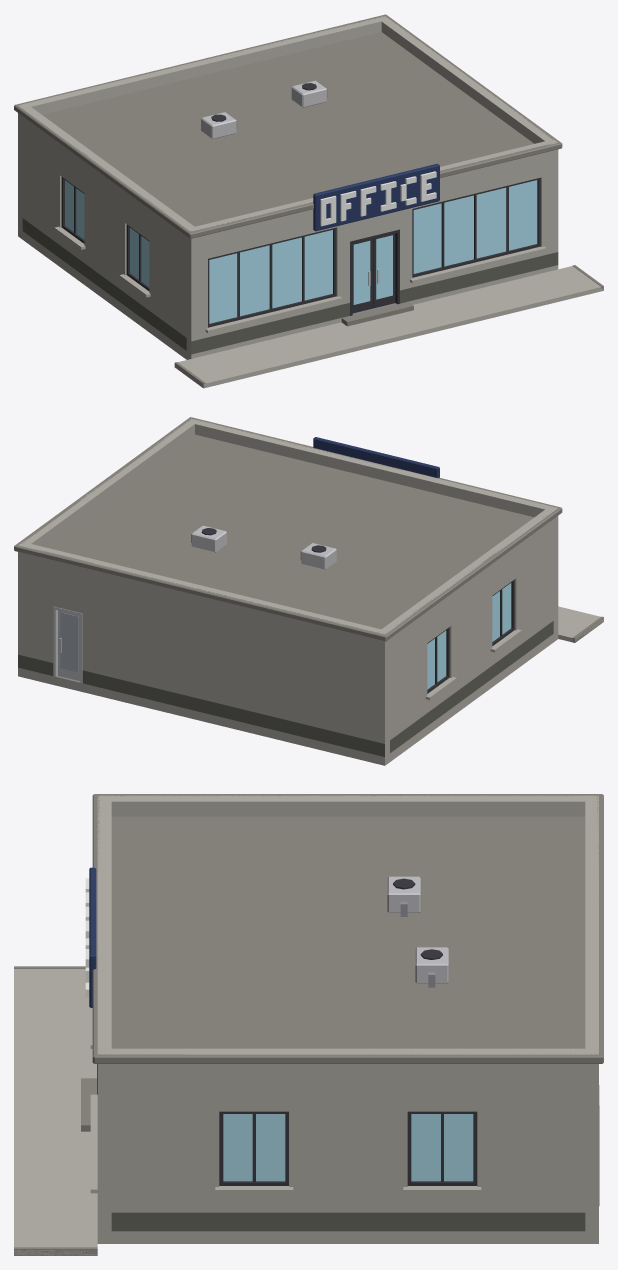
Rendered from Office.fbx.
3 views of the same model, one above another, from view 1: azimuth 30°, elevation 25°; view 2: azimuth 150°, elevation 25°; view 3: azimuth 270°, elevation 25° (orthographic). The views are drawn at different scales.
Visible parts, largest first — view 1: Office, Office_Roof, Office_Glass, Office_Sign, Office_DoorR, Office_DoorL; view 2: Office, Office_Roof, Office_Glass, Office_Sign, Office_BackDoor; view 3: Office, Office_Roof, Office_Glass, Office_Sign.
Boxes of the visible parts, <box> form: Office: <box>14,14,603,388</box>; Office_Roof: <box>42,32,533,226</box>; Office_Glass: <box>65,180,537,323</box>; Office_Sign: <box>313,163,439,231</box>; Office_DoorR: <box>373,233,395,308</box>; Office_DoorL: <box>352,239,372,313</box>; Office: <box>14,417,603,765</box>; Office_Roof: <box>42,434,533,629</box>; Office_Glass: <box>427,583,511,689</box>; Office_Sign: <box>313,437,439,477</box>; Office_BackDoor: <box>58,610,79,680</box>; Office: <box>14,794,603,1255</box>; Office_Roof: <box>111,816,585,1048</box>; Office_Glass: <box>223,1114,473,1181</box>; Office_Sign: <box>85,867,96,1007</box>.
Bounding box in the file's own units: 48 × 16.1 × 42.35.
1 material, 1 textured.
